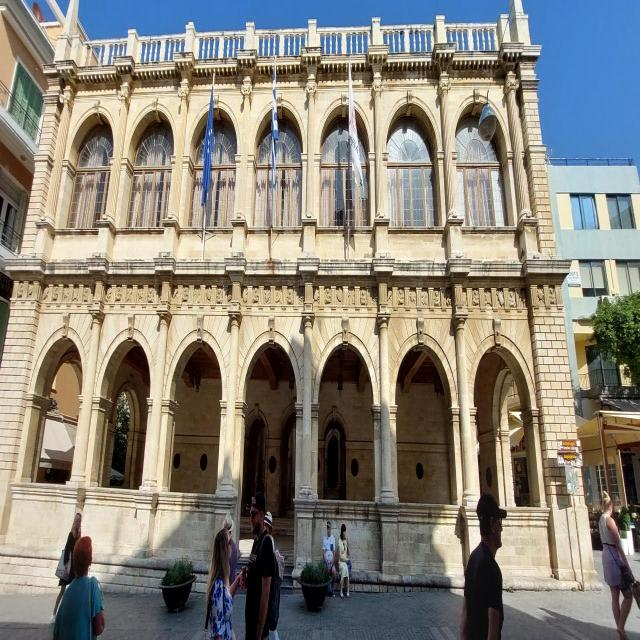Loggia: (1, 1, 605, 593)
